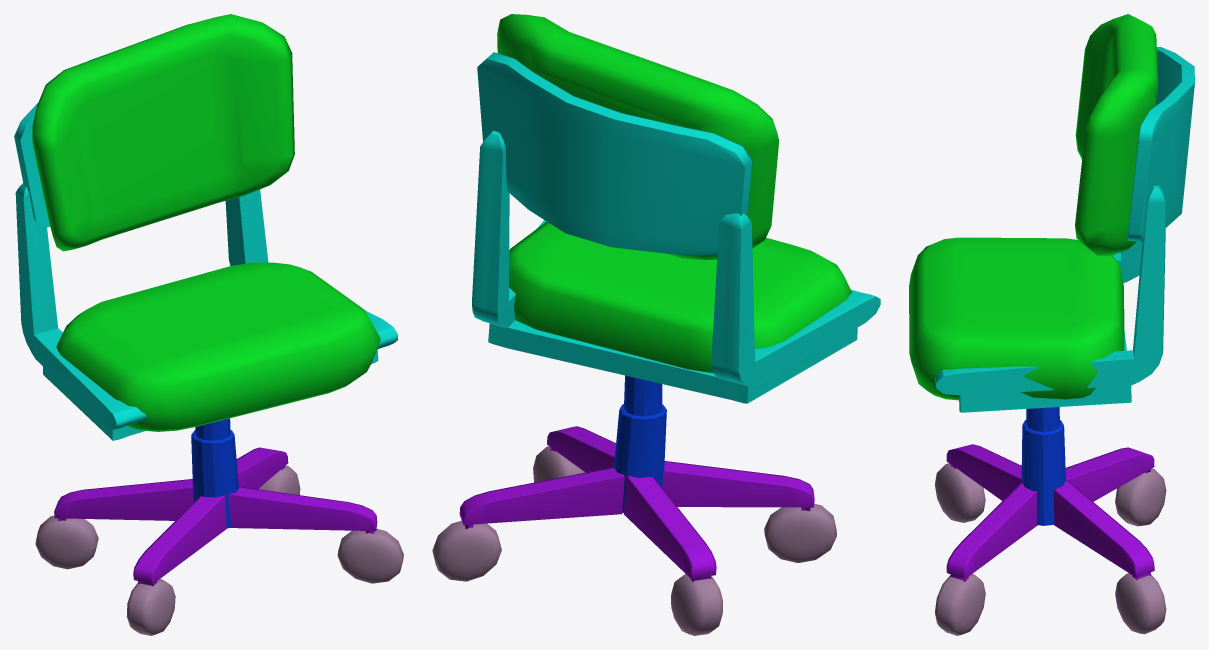
File: SM_NormalChair.fbx
3 renders of one model, left to right at view 1: azimuth 30°, elevation 25°; view 2: azimuth 150°, elevation 25°; view 3: azimuth 270°, elevation 25°, orthographic. The views are drawn at different scales.
Parts seen in each view (by area): view 1: SM_NormalChair; view 2: SM_NormalChair; view 3: SM_NormalChair.
Boxes of the visible parts, bbox=[...] form: SM_NormalChair: bbox=[14, 14, 403, 635]; SM_NormalChair: bbox=[432, 14, 880, 635]; SM_NormalChair: bbox=[909, 14, 1194, 635].
Bounding box in the file's own units: 64.87 × 107 × 52.86.
